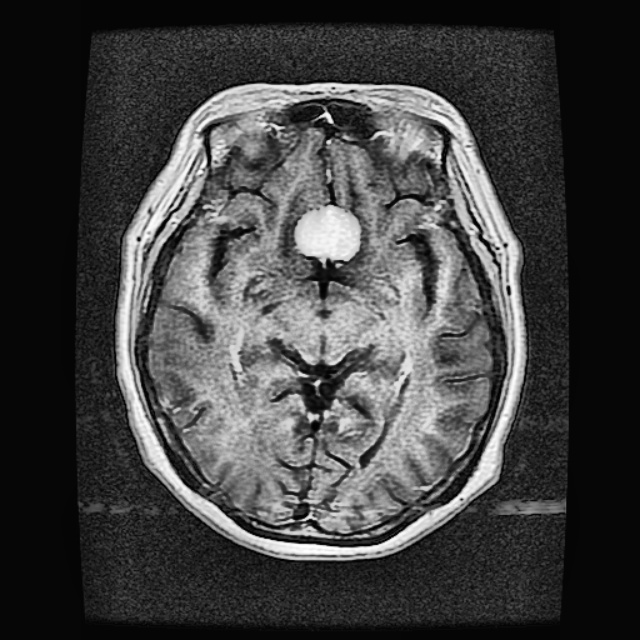Pituitary: (297, 203, 360, 262)
